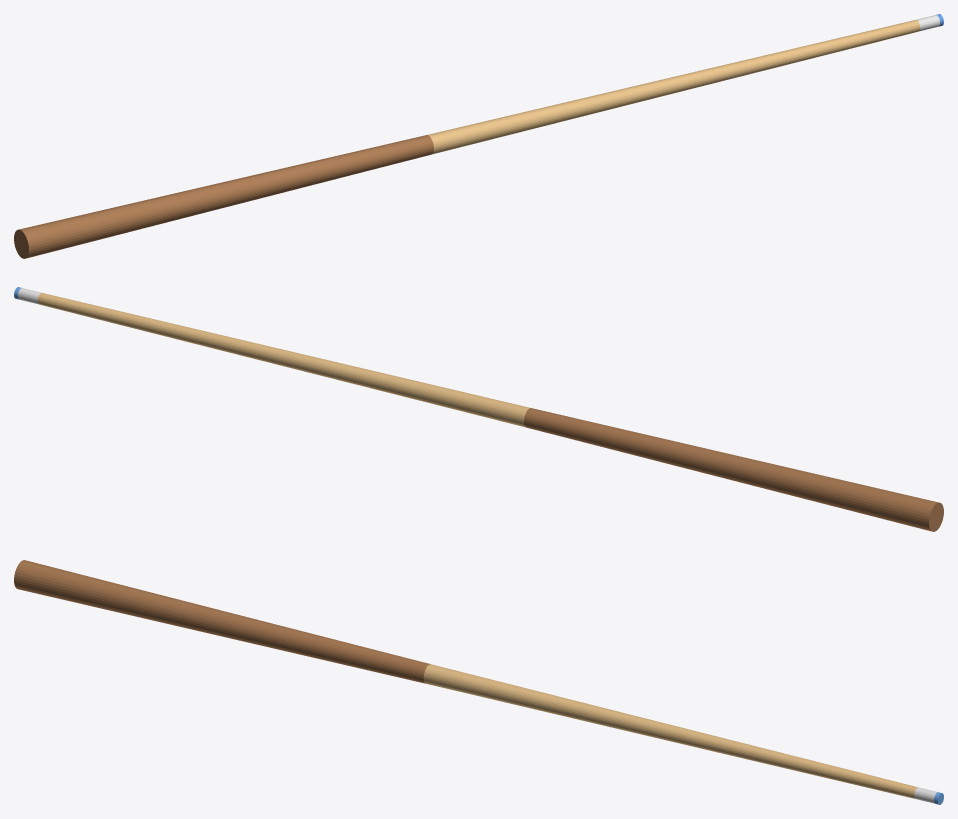
The model's file is cue.obj.
The picture shows the model from 3 angles, top to bottom: view 1: azimuth 30°, elevation 25°; view 2: azimuth 150°, elevation 25°; view 3: azimuth 330°, elevation 25°; orthographic projection.
Visible parts, largest first — view 1: Cylinder; view 2: Cylinder; view 3: Cylinder.
Part boxes in pixels (x1,y1,x2,y2): Cylinder: [14, 14, 943, 258]; Cylinder: [14, 287, 943, 531]; Cylinder: [14, 560, 943, 804].
Size of the model in its own units: 35.03 by 0.9927 by 0.9927.
Materials: 1 (1 with a texture image).
